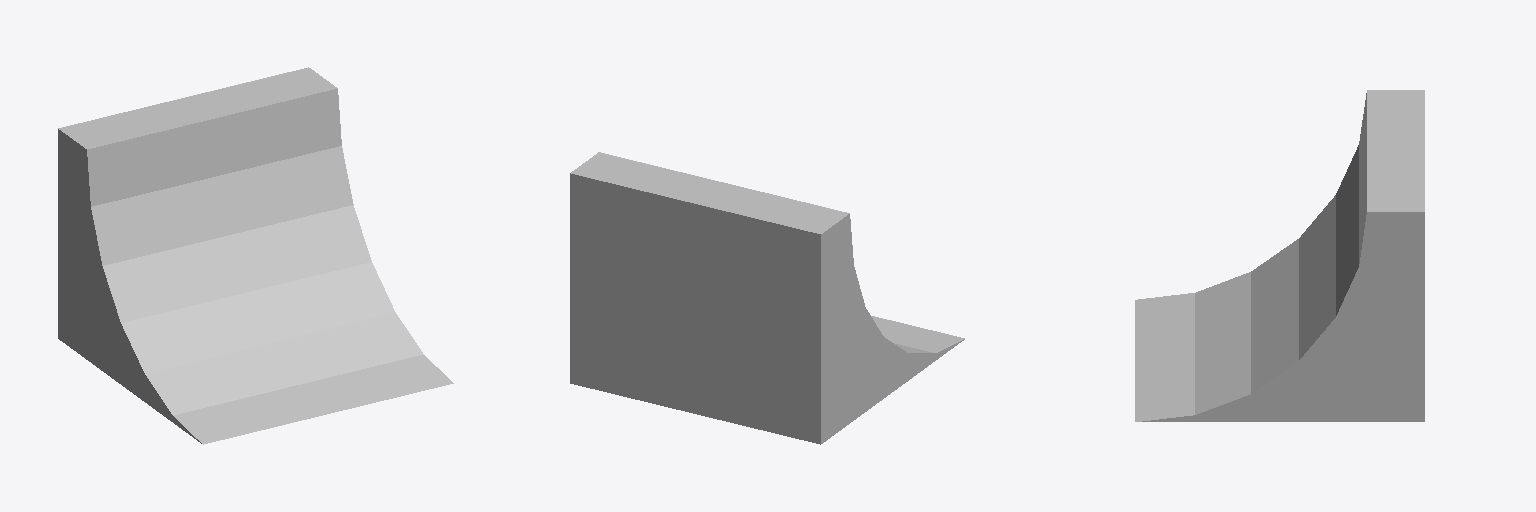
Rendered from half-pipe.obj.
The picture shows the model from 3 angles: view 1: azimuth 30°, elevation 25°; view 2: azimuth 150°, elevation 25°; view 3: azimuth 270°, elevation 25°; orthographic projection.
Parts seen in each view (by area): view 1: half-pipe; view 2: half-pipe; view 3: half-pipe.
Boxes of the visible parts, <box> form: half-pipe: <box>58,67,453,444</box>; half-pipe: <box>570,152,964,444</box>; half-pipe: <box>1135,90,1424,421</box>.
Bounding box in the file's own units: 1 × 0.8 × 1.